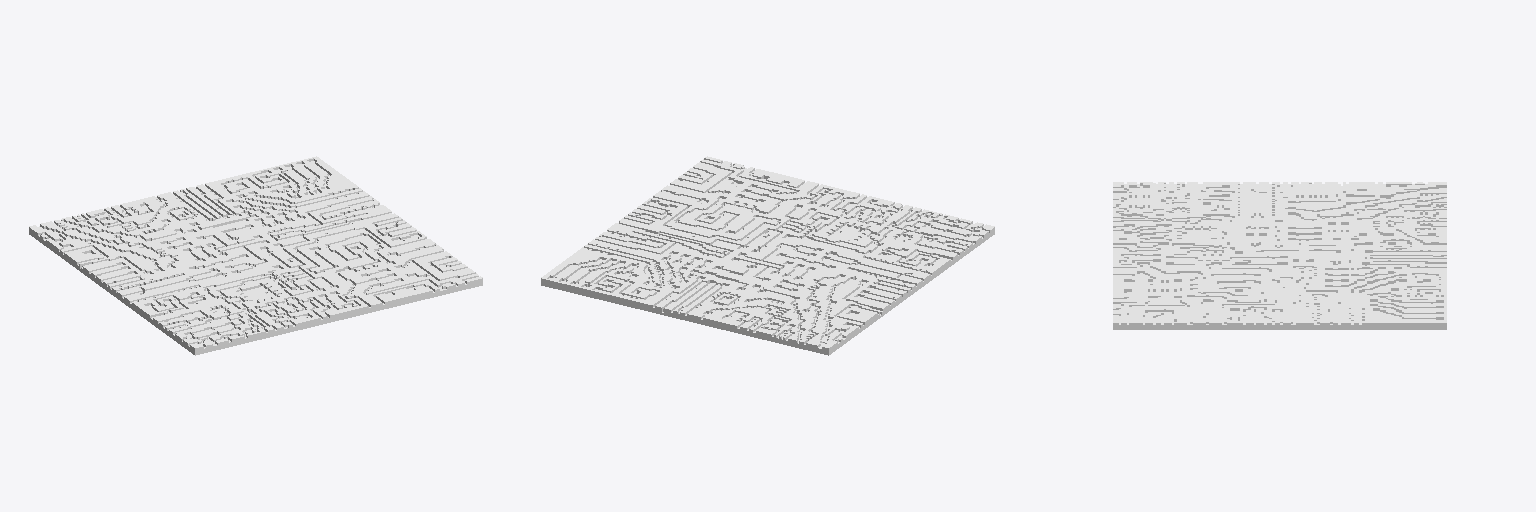
File: green_piece.obj
The picture shows the model from 3 angles: view 1: azimuth 30°, elevation 25°; view 2: azimuth 150°, elevation 25°; view 3: azimuth 270°, elevation 25°; orthographic projection.
Parts seen in each view (by area): view 1: object 1; view 2: object 1; view 3: object 1.
Boxes of the visible parts, x1=… form: object 1: x1=29, y1=156, x2=482, y2=355; object 1: x1=541, y1=156, x2=994, y2=355; object 1: x1=1113, y1=182, x2=1446, y2=329.
Size of the model in its own units: 12.6 by 0.3 by 12.6.